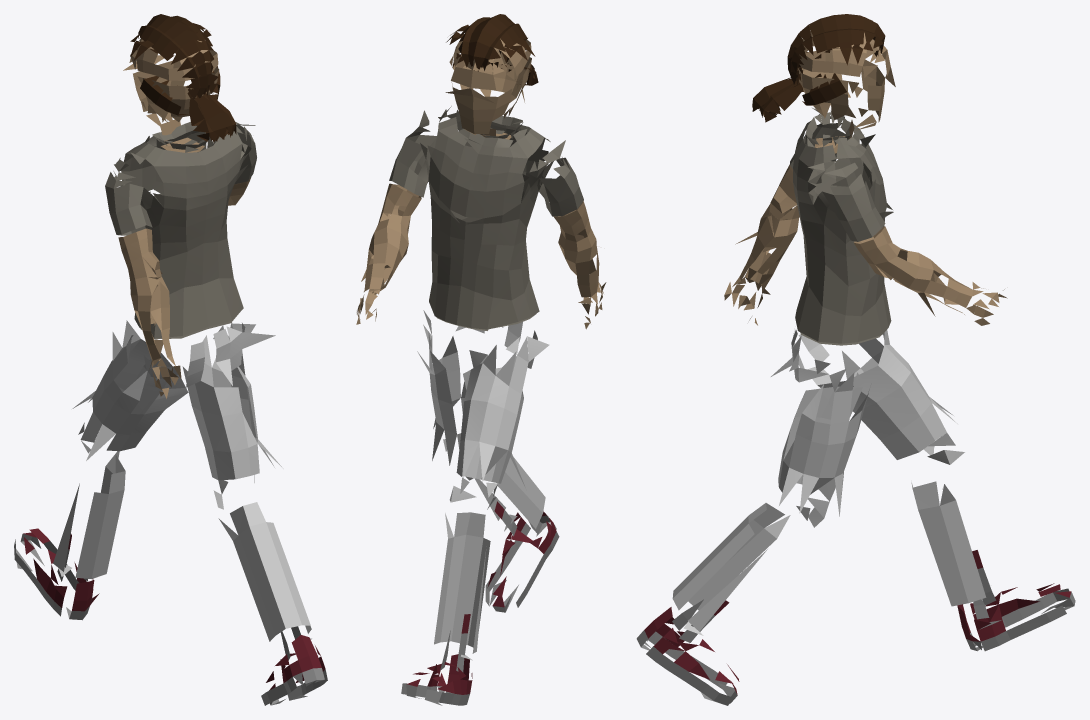
Rendered from person_9_w0.fbx.
3 views of the same model, side by side, from view 1: azimuth 30°, elevation 25°; view 2: azimuth 150°, elevation 25°; view 3: azimuth 270°, elevation 25° (orthographic). The views are drawn at different scales.
Visible parts, largest first — view 1: Casual2_Feet; view 2: Casual2_Feet; view 3: Casual2_Feet.
Boxes of the visible parts, bbox=[...] form: Casual2_Feet: bbox=[14, 14, 327, 705]; Casual2_Feet: bbox=[356, 14, 606, 705]; Casual2_Feet: bbox=[636, 14, 1075, 705].
Size of the model in its own units: 0.2602 by 0.9983 by 0.5987.
